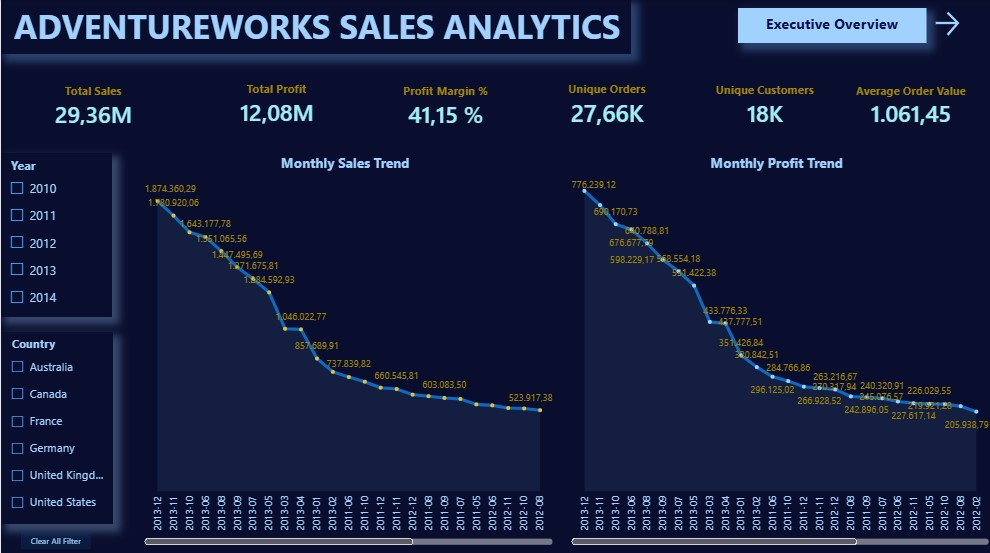

What the dashboard file says about the page in this screenshot:
{"tool":"powerbi","page":{"name":"Executive Overview","canvas":[1280,720],"ordinal":0},"visuals":[{"type":"group","id":"g1","title":"Group 1","box":[0.5,90.8,1278.6,93.7],"z":0},{"type":"cardVisual","fields":{"Data":["sales_featured.Profit Margin %"]},"box":[484.9,95.5,181,85.1],"z":0,"group":"g1"},{"type":"cardVisual","fields":{"Data":["sales_featured.Average Order Value"]},"box":[1069.6,91.4,209.5,93.1],"z":1000,"group":"g1"},{"type":"lineChart","title":"Monthly Sales Trend","fields":{"Category":["DimDate.Year Month"],"Y":["sales_featured.Total Sales"]},"box":[171.6,199.3,545.5,510.5],"z":1000},{"type":"cardVisual","fields":{"Data":["sales_featured.Total Sales"]},"box":[0.5,95.5,238.5,84.4],"z":2000,"group":"g1"},{"type":"lineChart","title":"Monthly Profit Trend","fields":{"Category":["DimDate.Year Month"],"Y":["sales_featured.Total Profit"]},"box":[722.9,199.3,557.1,510.5],"z":2000},{"type":"cardVisual","fields":{"Data":["sales_featured.Total Profit"]},"box":[239,94,234.2,85.8],"z":3000,"group":"g1"},{"type":"slicer","fields":{"Values":["DimDate.Year"]},"box":[0,199.3,142.5,210.9],"z":3000},{"type":"cardVisual","fields":{"Data":["sales_featured.Unique Customers"]},"box":[889.2,90.8,193.5,91.6],"z":4000,"group":"g1"},{"type":"slicer","fields":{"Values":["sales_featured.Country"]},"box":[1.3,429.7,143.2,247.7],"z":4000},{"type":"cardVisual","fields":{"Data":["sales_featured.Unique Orders"]},"box":[703,92.5,160,88.7],"z":5000,"group":"g1"},{"type":"actionButton","box":[26.2,688,89.9,22.2],"z":5000},{"type":"textbox","box":[0,0,813.1,71.3],"z":6000},{"type":"textbox","box":[951.3,11.6,242.9,45.1],"z":7000},{"type":"actionButton","box":[1200,11.6,43.6,40.7],"z":8000}]}

Visuals, with their boxes in screenshot pixels (x1, y1, x2, y2), scaled from the page's 1280x720 canvas onto the 990x553 screenshot:
"Group 1" group: region(0, 70, 989, 142)
cardVisual - sales_featured.Profit Margin %: region(375, 73, 515, 139)
cardVisual - sales_featured.Average Order Value: region(827, 70, 989, 142)
"Monthly Sales Trend" lineChart: region(133, 153, 555, 545)
cardVisual - sales_featured.Total Sales: region(0, 73, 185, 138)
"Monthly Profit Trend" lineChart: region(559, 153, 989, 545)
cardVisual - sales_featured.Total Profit: region(185, 72, 366, 138)
slicer - DimDate.Year: region(0, 153, 110, 315)
cardVisual - sales_featured.Unique Customers: region(688, 70, 837, 140)
slicer - sales_featured.Country: region(1, 330, 112, 520)
cardVisual - sales_featured.Unique Orders: region(544, 71, 667, 139)
actionButton: region(20, 528, 90, 545)
textbox: region(0, 0, 629, 55)
textbox: region(736, 9, 924, 44)
actionButton: region(928, 9, 962, 40)
